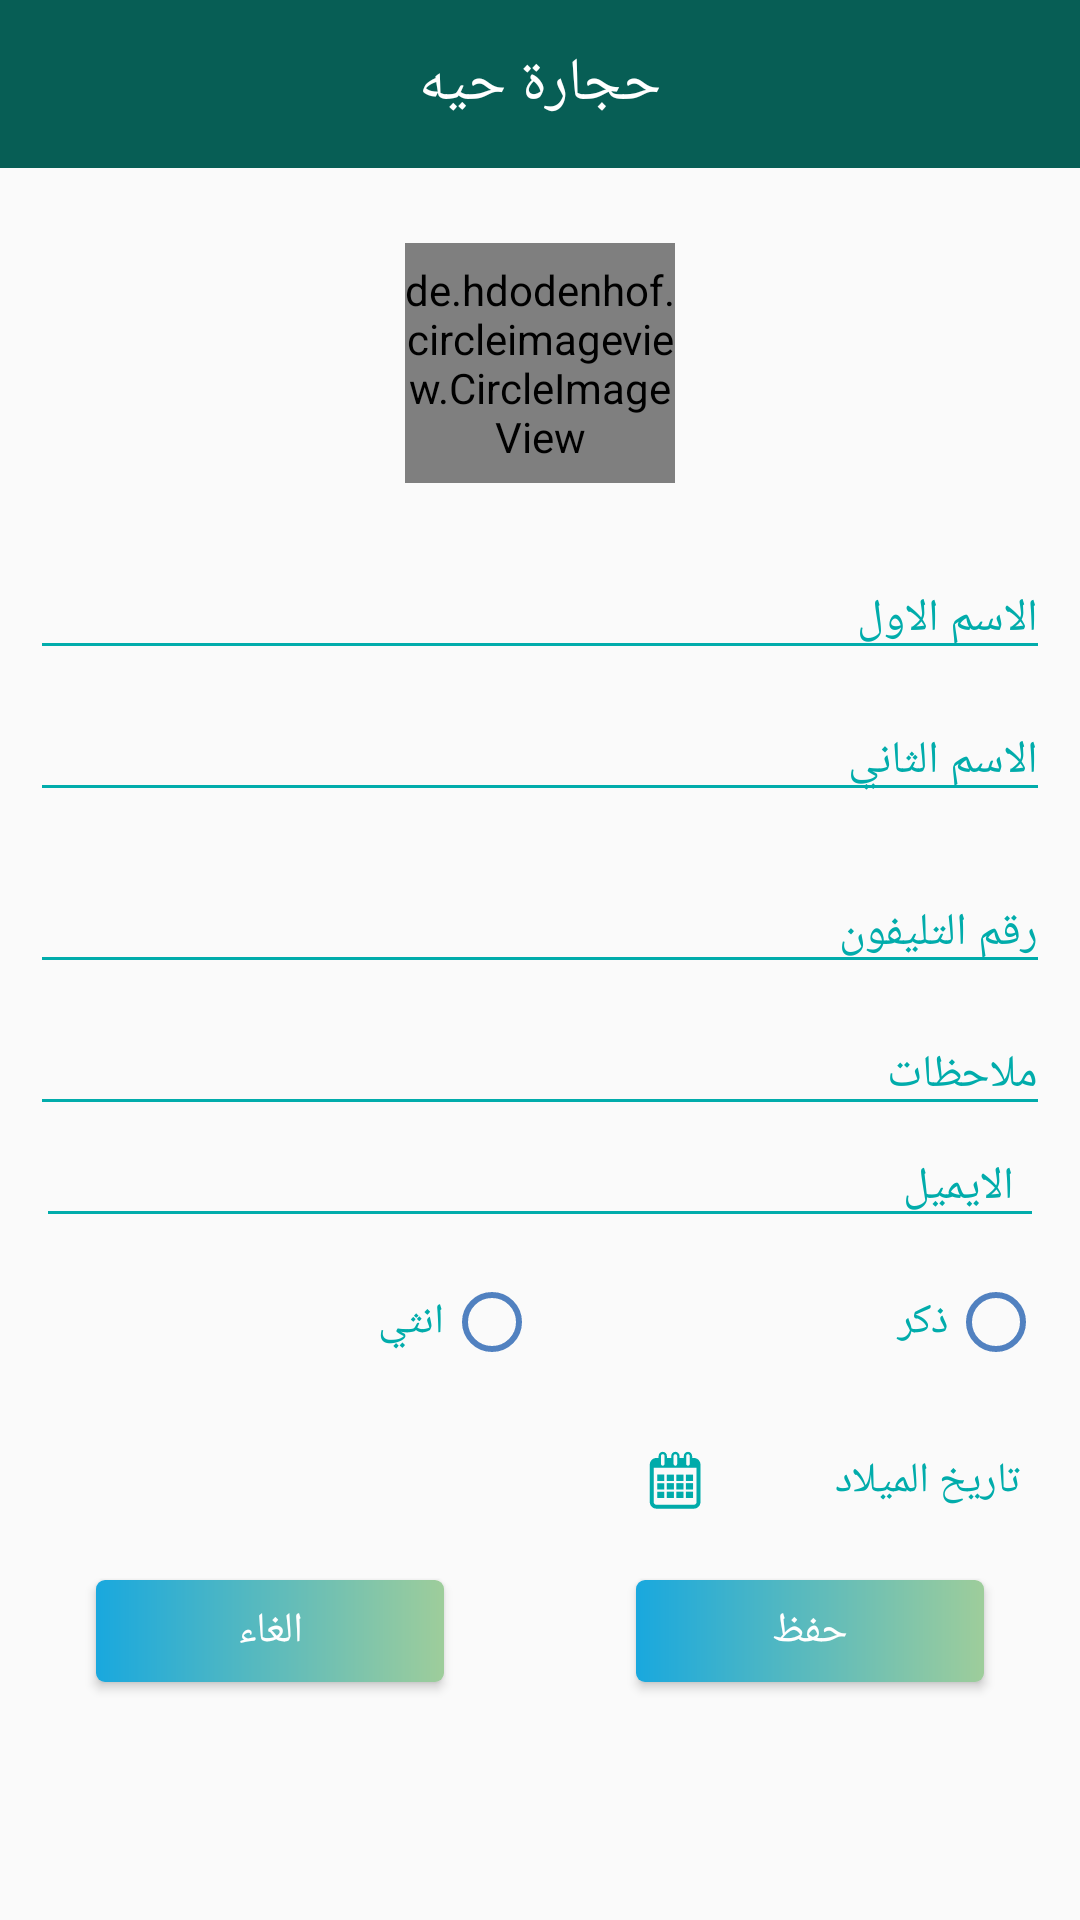

Icons on this 1080px x 1920px Android screen, each with the point to tap as [x,y]:
calender: [675,1480]
